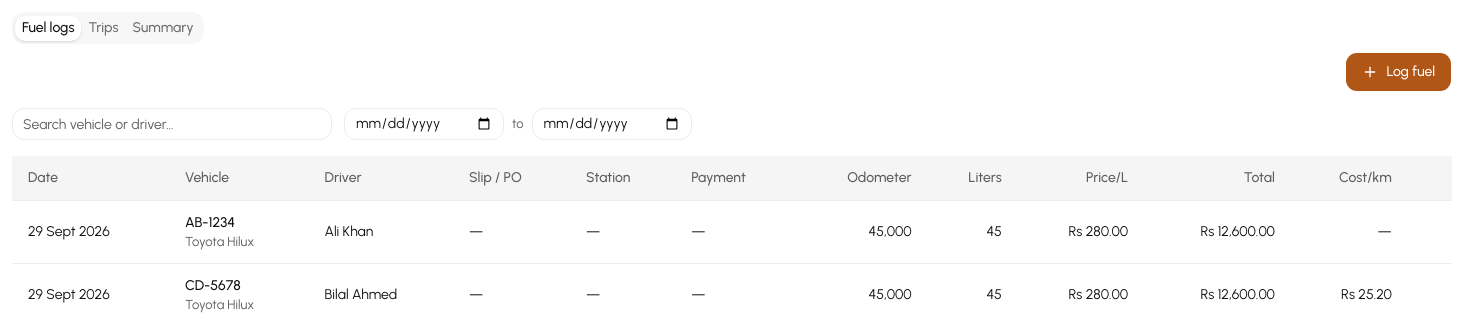
Fuel & Trips filters › searches fuel logs by vehicle and driver
Type "bilal" into the field named "Search fuel and trips" at (172, 124), box x1=12 y1=108 x2=332 y2=140
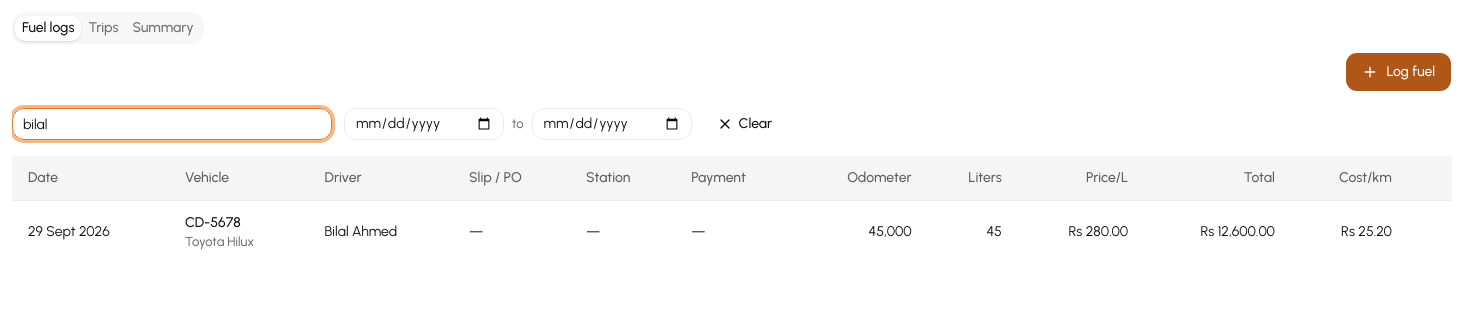
Expected: the link "CD-5678" is shown, x1=185 y1=214 x2=241 y2=230
Result: the link "AB-1234" is gone
